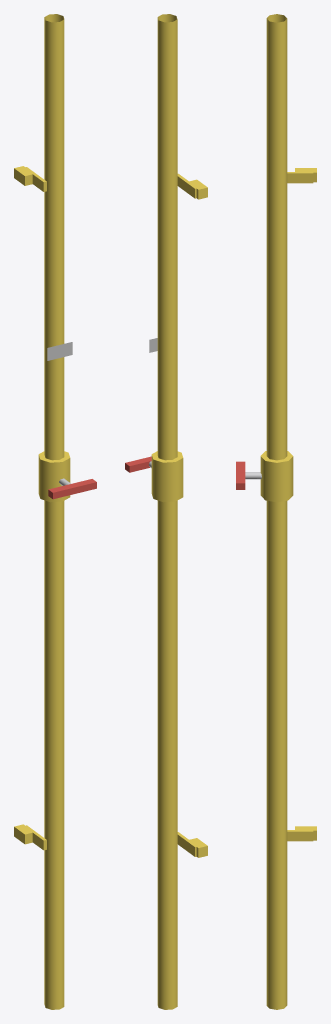
The model's file is gas_pipe_riser_3m.glb.
3 renders of one model, left to right at view 1: azimuth 30°, elevation 25°; view 2: azimuth 210°, elevation 25°; view 3: azimuth 270°, elevation 25°, orthographic.
Visible parts, largest first — view 1: gas_pipe_riser_3m; view 2: gas_pipe_riser_3m; view 3: gas_pipe_riser_3m.
Boxes of the visible parts, box(x1,y1,x2,y2) form: gas_pipe_riser_3m: box(14, 14, 96, 1009); gas_pipe_riser_3m: box(125, 14, 207, 1009); gas_pipe_riser_3m: box(236, 14, 316, 1009).
Size of the model in its own units: 0.14 by 3 by 0.2225.
